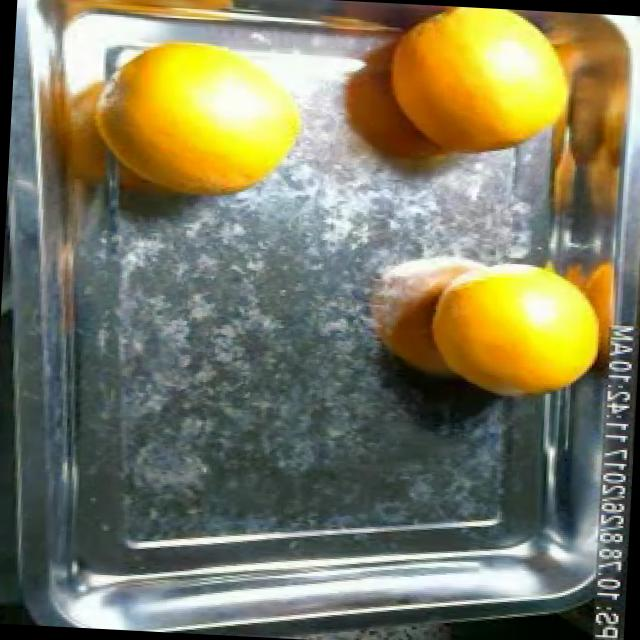Fruit: (400, 240, 622, 418), (292, 0, 470, 45), (0, 593, 52, 626)
